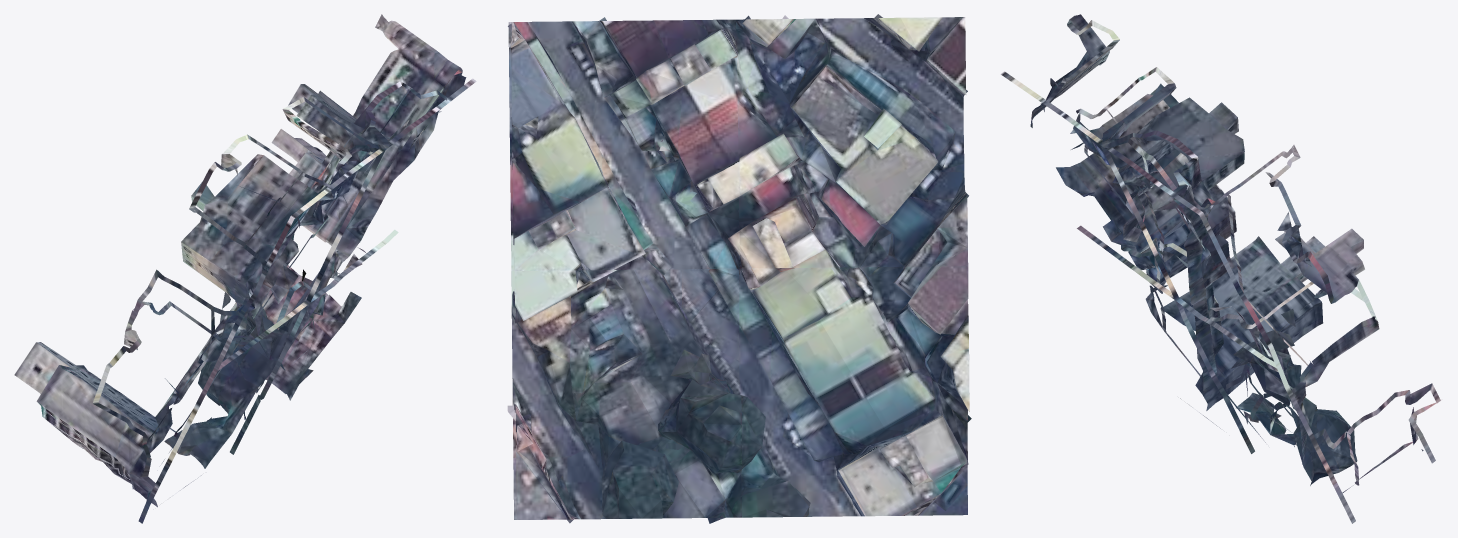
The picture shows the model from 3 angles, left to right: view 1: azimuth 30°, elevation 25°; view 2: azimuth 150°, elevation 25°; view 3: azimuth 270°, elevation 25°; orthographic projection. The views are drawn at different scales.
Size of the model in its own units: 87.34 by 78.36 by 79.58.
2 materials, 2 textured.
